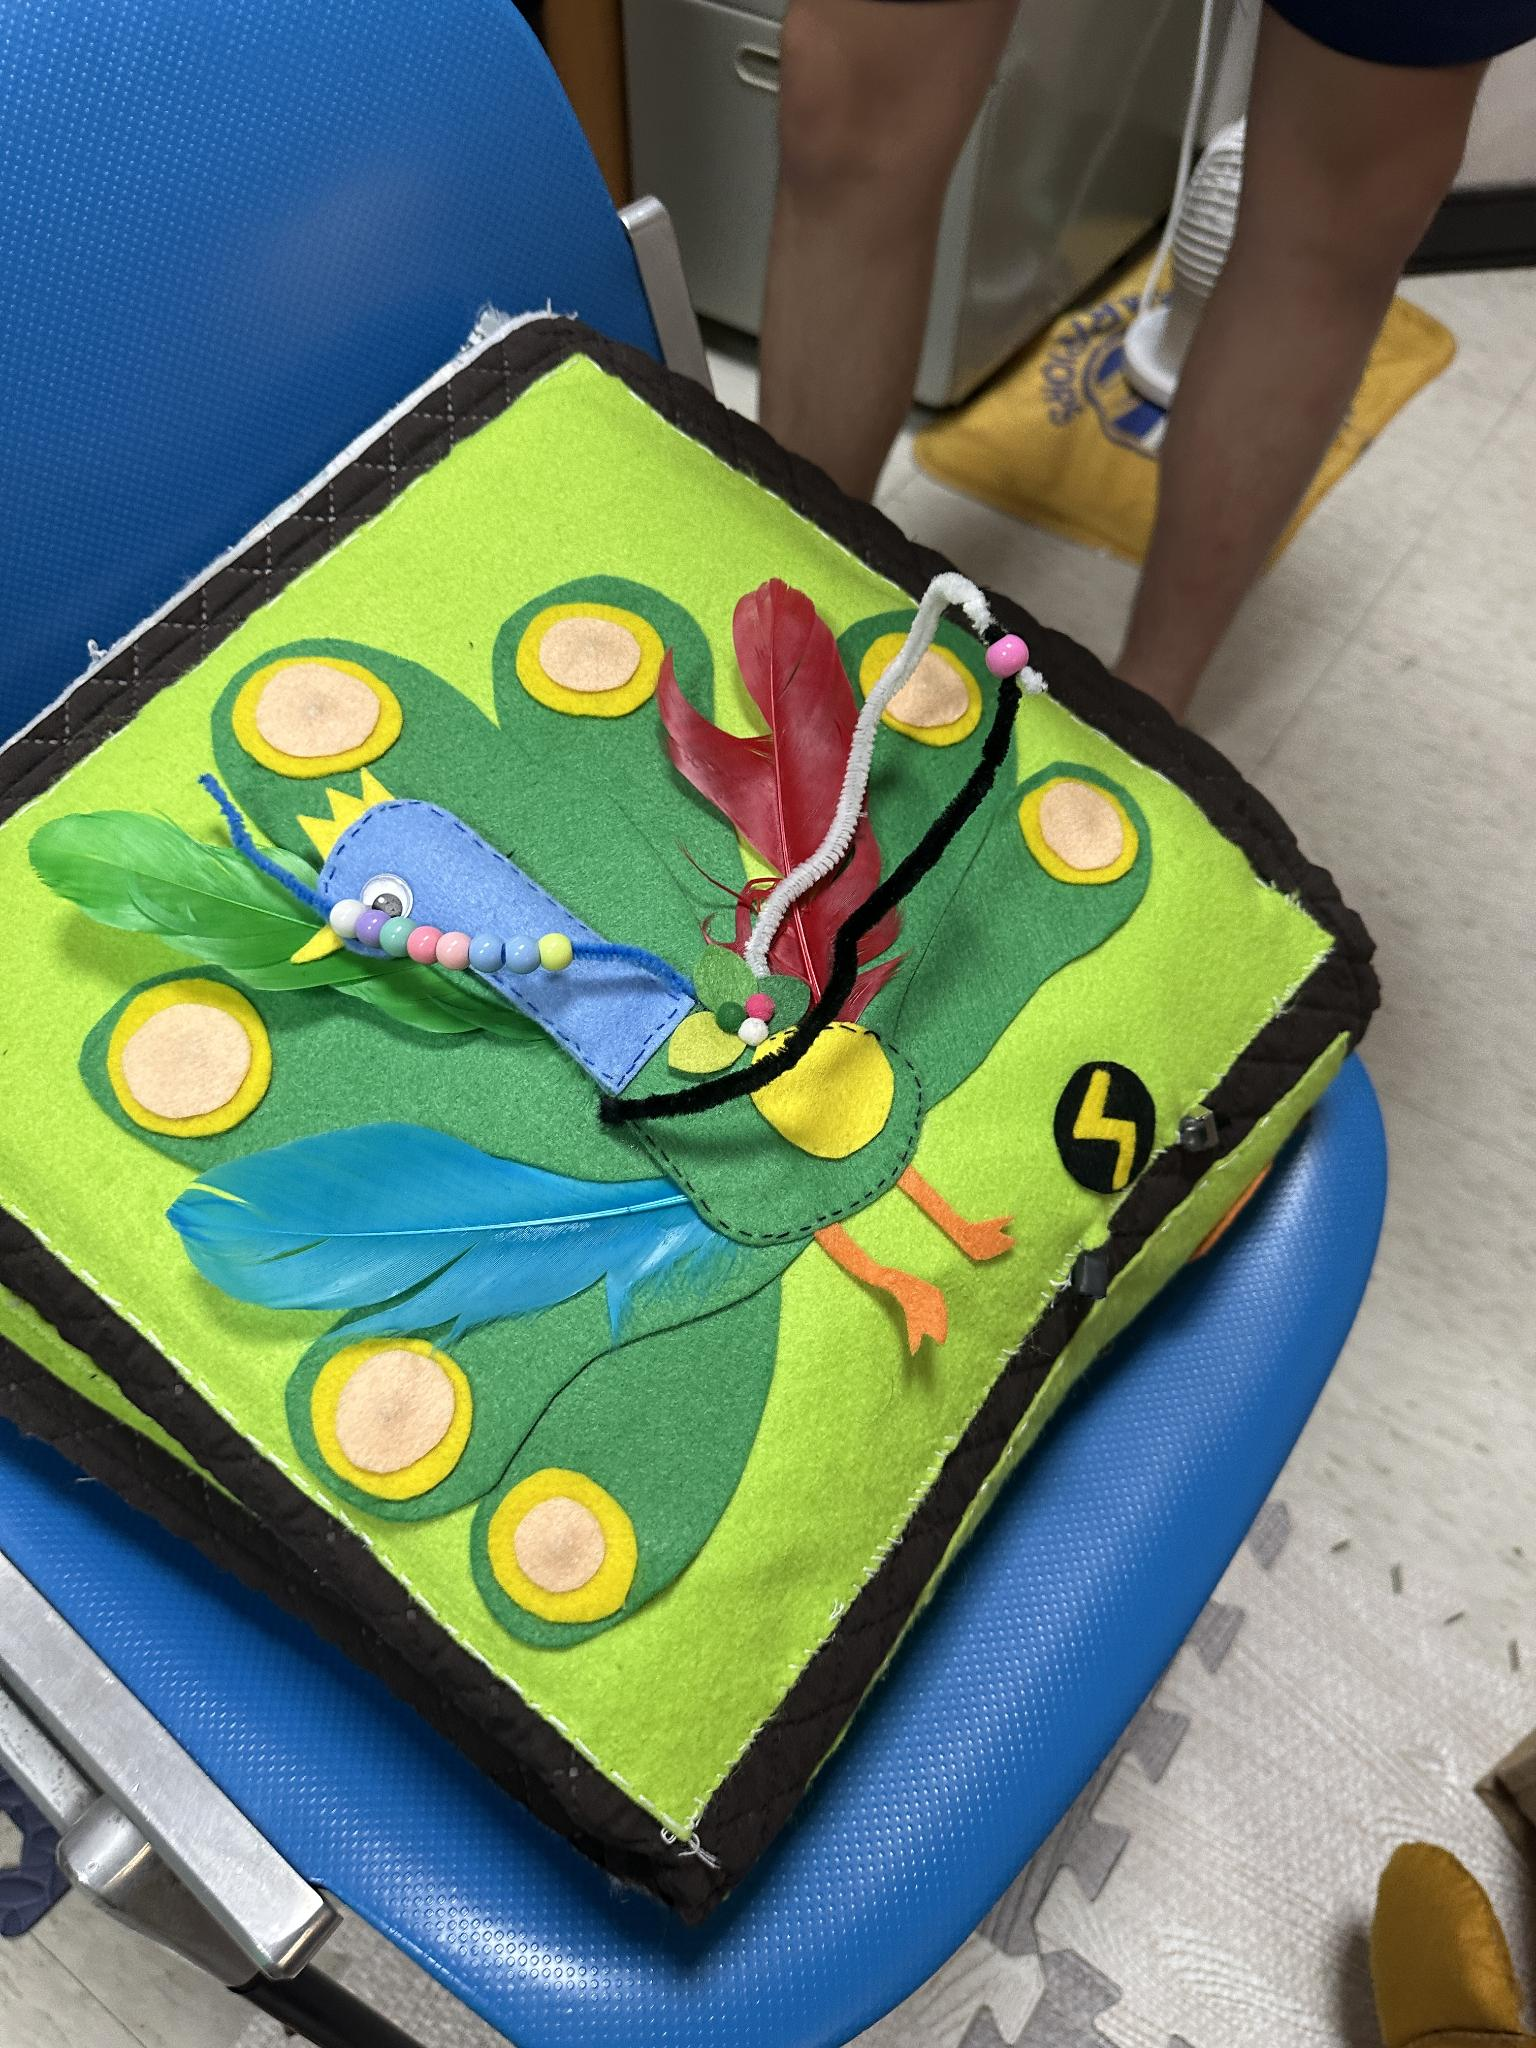bead: (503, 935, 552, 977), (979, 640, 1041, 672), (323, 885, 361, 934), (357, 898, 390, 950), (390, 913, 421, 964), (437, 924, 465, 980), (547, 926, 578, 974), (474, 934, 507, 977), (415, 919, 436, 974)
